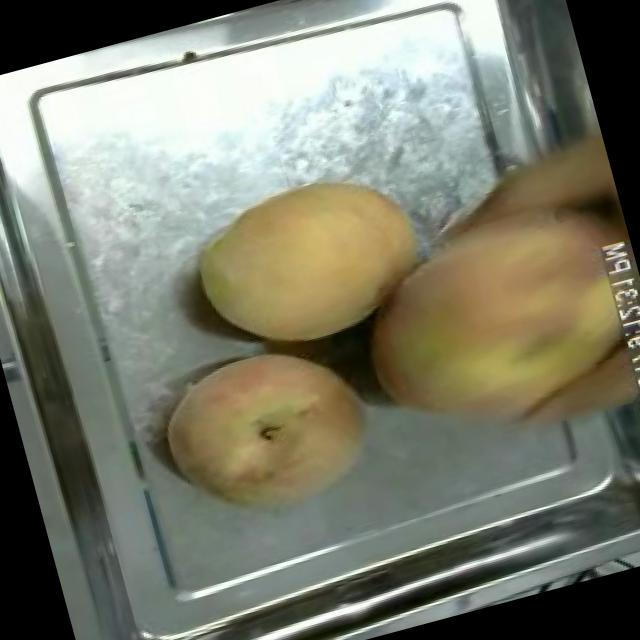Fruit: (318, 121, 640, 488), (175, 150, 443, 370), (144, 321, 393, 544)
